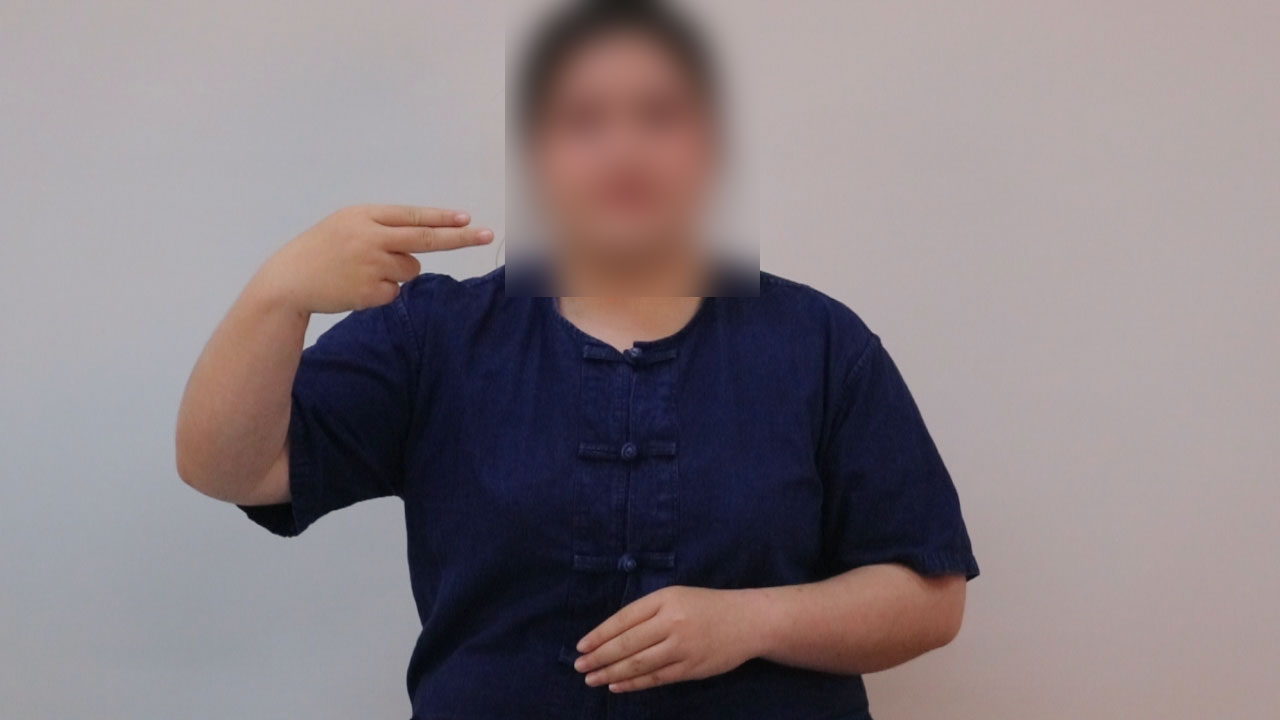hor: (269, 189, 507, 328)
